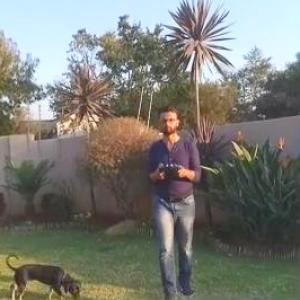follow: (147, 101, 205, 299)
null: (2, 251, 86, 299)
